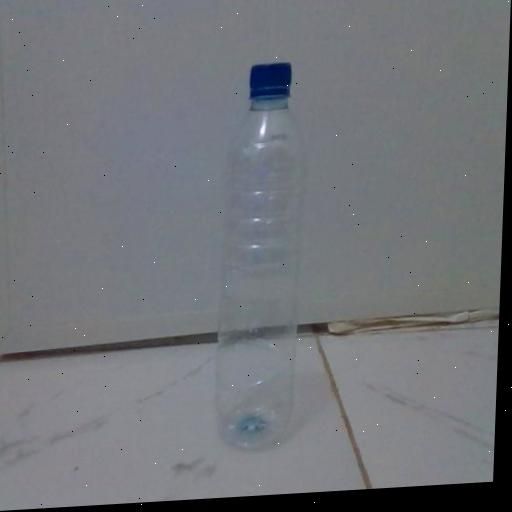bottle: (177, 38, 338, 482)
